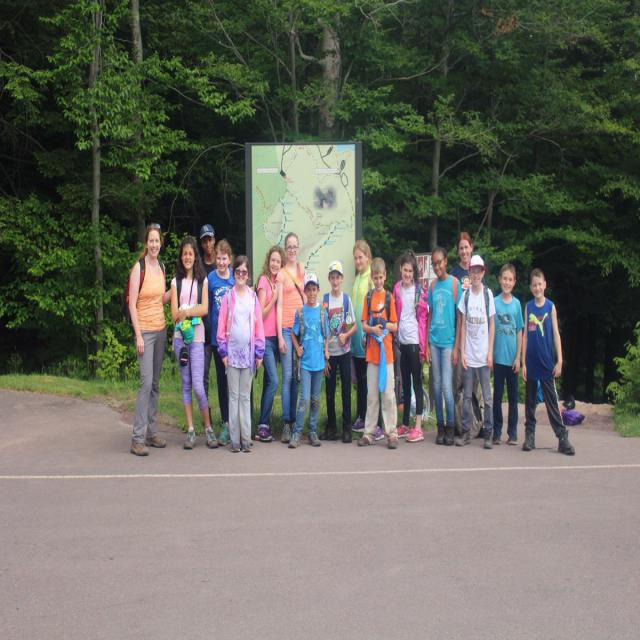body: (198, 224, 347, 640), (169, 234, 221, 452), (520, 265, 577, 457), (125, 222, 171, 456), (216, 253, 267, 455), (354, 255, 399, 450), (422, 245, 464, 446), (454, 252, 496, 450), (284, 271, 330, 450), (448, 231, 487, 438), (348, 237, 386, 442), (249, 244, 288, 443), (318, 258, 359, 445), (392, 246, 428, 444), (275, 230, 308, 445), (205, 238, 237, 448), (492, 259, 526, 446)
